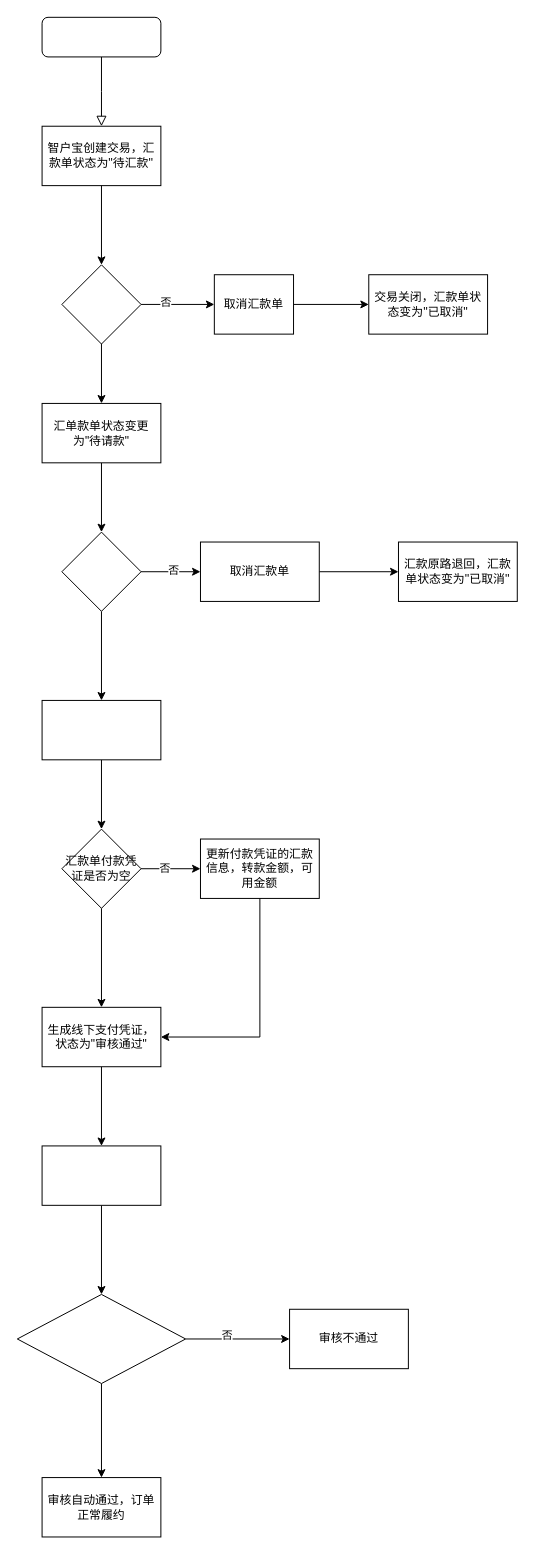
Image size: 535x1554. Some labels were removed from this diagram. Each missing label, with the centre of its shape:
"可进行批量支付刷单" belongs at point (101, 1175).
"是否汇款" belongs at point (101, 304).
"是否请款" belongs at point (101, 571).
"汇款单状态变更为''已提款''，智户宝自动发起提现" belongs at point (101, 729).
"用户提交汇款单" belongs at point (101, 36).
"订单中的发票抬头和税号是否与汇款公司名一致" belongs at point (101, 1338).
